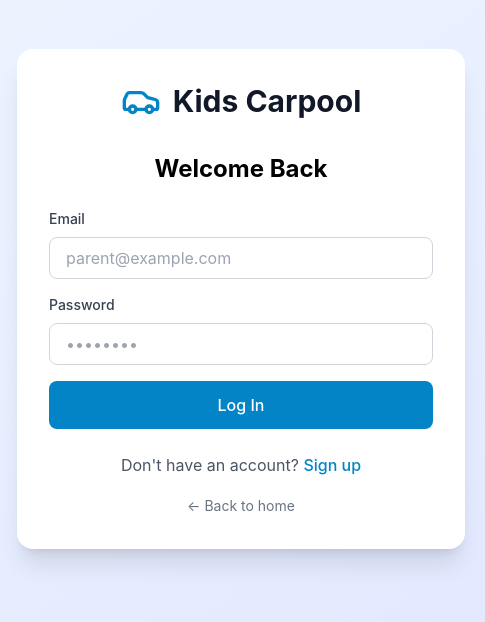
Test: Authentication Integration Tests › User Login › should show error with invalid credentials
# Fill in the login form
Type "wrong@example.com" into the field with placeholder "parent@example.com" at x=241, y=258, box [49,237,433,279]
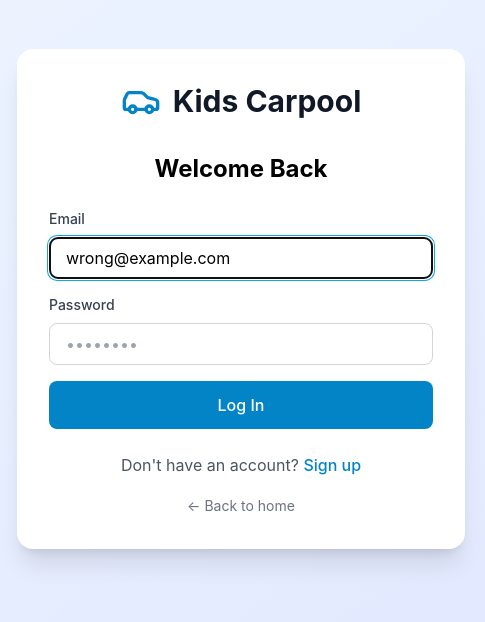
Type "wrongpassword" into the password field with placeholder "••••••••" at x=241, y=344, box [49,323,433,365]
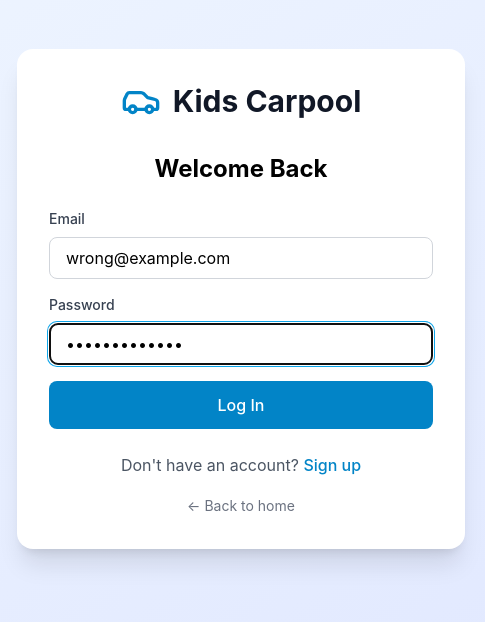
# Submit the form
Click the button "Log In" at x=241, y=405, box [49,381,433,429]
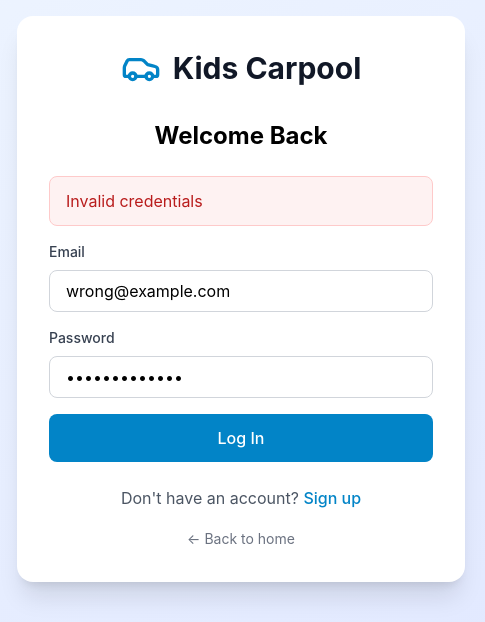
Result: the text "Invalid credentials" is shown at [49,176,433,226]
